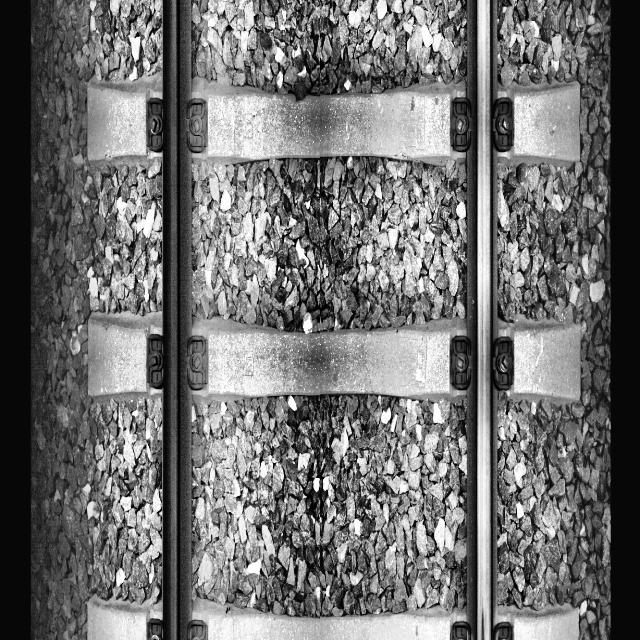Clips: (185, 334, 208, 390), (186, 96, 208, 152), (492, 97, 514, 151), (451, 96, 472, 152), (450, 336, 471, 390), (493, 334, 513, 390), (148, 332, 166, 388), (146, 97, 164, 152), (186, 618, 208, 640), (491, 618, 512, 640), (145, 616, 163, 640), (452, 619, 472, 640)
Sleepers: (88, 312, 581, 403), (88, 78, 580, 164), (86, 593, 579, 640)
